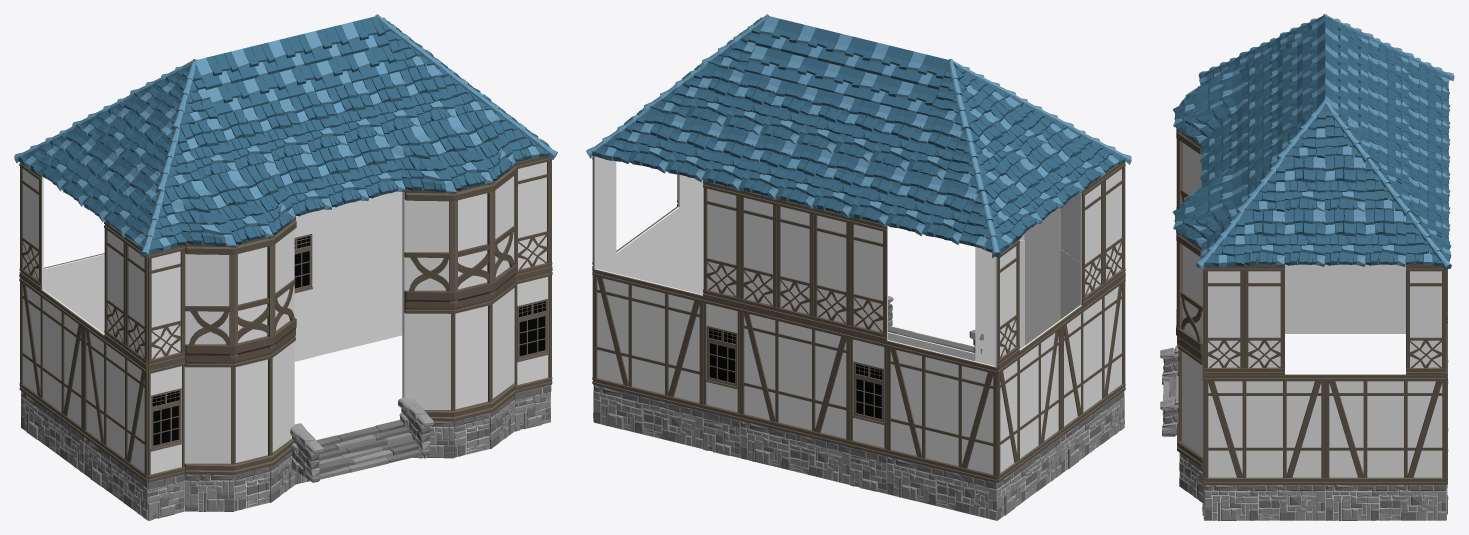
File: House_14_parts.fbx
3 views of the same model, side by side, from view 1: azimuth 30°, elevation 25°; view 2: azimuth 150°, elevation 25°; view 3: azimuth 270°, elevation 25° (orthographic). The views are drawn at different scales.
Visible parts, largest first — view 1: WINDOW_02_Balkon_3, WINDOW_01_Balkon_2, WINDOW_02_Balkon_2, WINDOW_01_Balkon_3, WALL_02_6, ROOF_base_round_3, ROOF_base_round_2, WALL_02_2, WALL_02_3, STAIRS_02_2, WALL_04_3, WALL_04_4 (+50 smaller); view 2: WALL_02_4, WALL_02_6, WALL_02_5, WALL_02_3, WALL_02_2, WINDOW_01_Balkon_2, WALL_04_8, WALL_04_9, WALL_04_12, WALL_04_11, WALL_04_10, WINDOW_04_6 (+58 smaller); view 3: WALL_02_7, WALL_02_8, WALL_04_14, WALL_04_13, WALL_04_15, FOUNDATION_02_25, FOUNDATION_02_26, ROOF_base_round_3, ROOF_base_round_2, FOUNDATION_02_30, WINDOW_02_Balkon_3, WINDOW_01_Balkon_3 (+70 smaller).
Part boxes in pixels (x1,y1,x2,y2): WINDOW_02_Balkon_3: (402, 164, 516, 305); WINDOW_01_Balkon_2: (184, 333, 295, 474); WINDOW_02_Balkon_2: (185, 217, 296, 359); WINDOW_01_Balkon_3: (402, 279, 515, 421); WALL_02_6: (315, 191, 402, 318); ROOF_base_round_3: (384, 108, 515, 193); ROOF_base_round_2: (165, 162, 295, 246); WALL_02_2: (83, 320, 147, 482); WALL_02_3: (19, 275, 85, 435); STAIRS_02_2: (290, 398, 433, 482); WALL_04_3: (514, 156, 551, 277); WALL_04_4: (148, 245, 185, 367); WALL_02_4: (886, 340, 997, 482); WALL_02_6: (592, 269, 703, 411); WALL_02_5: (739, 305, 850, 447); WALL_02_3: (997, 320, 1062, 482); WALL_02_2: (1059, 275, 1125, 435); WINDOW_01_Balkon_2: (975, 240, 1080, 355); WALL_04_8: (849, 216, 887, 340); WALL_04_9: (813, 207, 850, 331); WALL_04_12: (703, 181, 740, 305); WALL_04_11: (739, 189, 776, 313); WALL_04_10: (776, 198, 813, 322); WINDOW_04_6: (849, 332, 886, 456); WALL_02_7: (1325, 374, 1446, 484); WALL_02_8: (1204, 374, 1325, 484); WALL_04_14: (1244, 264, 1284, 374); WALL_04_13: (1406, 264, 1446, 374); WALL_04_15: (1204, 265, 1244, 374); FOUNDATION_02_25: (1204, 485, 1325, 520); FOUNDATION_02_26: (1325, 485, 1446, 520); ROOF_base_round_3: (1173, 159, 1242, 246); ROOF_base_round_2: (1172, 56, 1242, 143); FOUNDATION_02_30: (1325, 297, 1405, 333); WINDOW_02_Balkon_3: (1176, 231, 1202, 357); WINDOW_01_Balkon_3: (1177, 341, 1203, 467).
Size of the model in its own units: 1141 by 1012 by 729.
